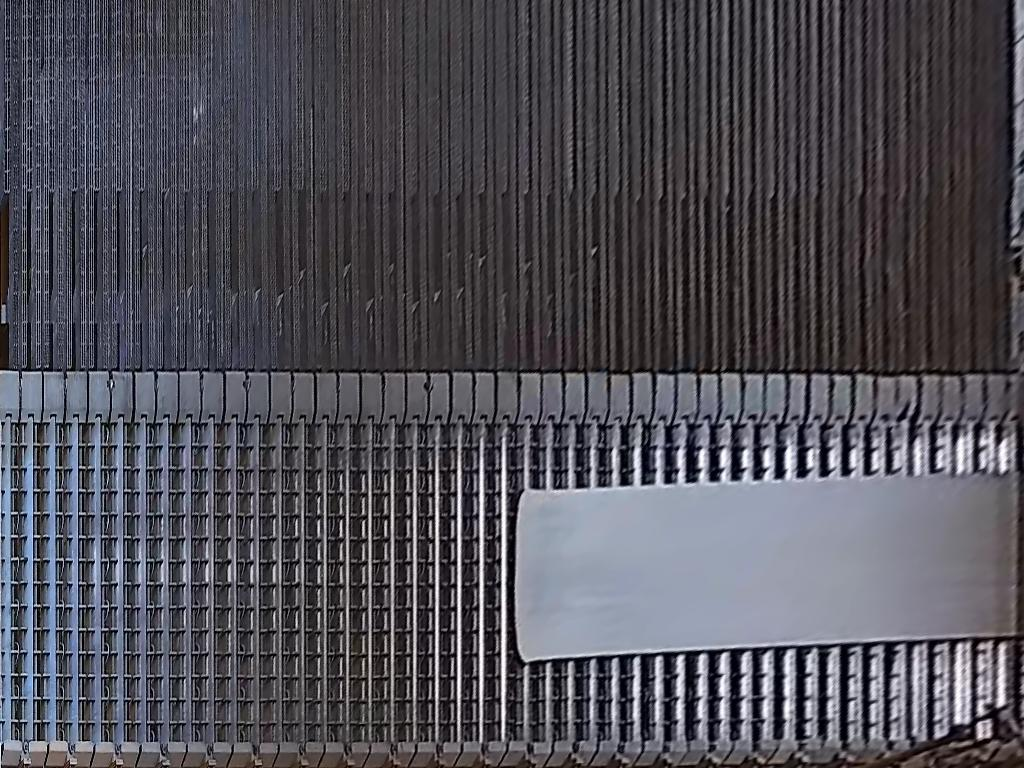steel: (516, 473, 1024, 664)
